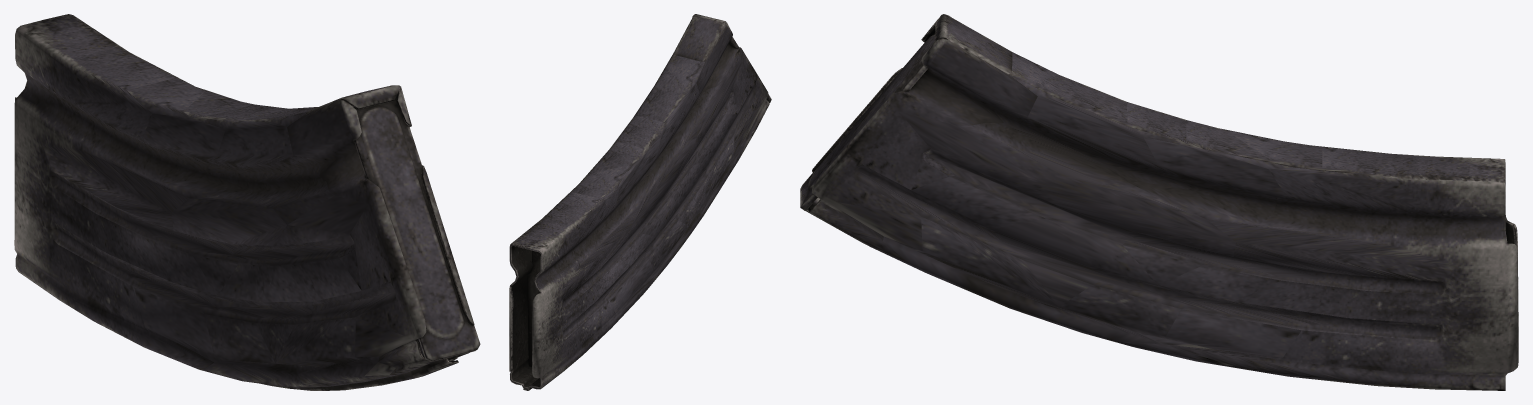
The model's file is Mag3006ExtLg.fbx.
3 renders of one model, left to right at view 1: azimuth 30°, elevation 25°; view 2: azimuth 150°, elevation 25°; view 3: azimuth 270°, elevation 25°, orthographic. The views are drawn at different scales.
Parts seen in each view (by area): view 1: Mag3006ExtLg; view 2: Mag3006ExtLg; view 3: Mag3006ExtLg.
Part boxes in pixels (x1,y1,x2,y2): Mag3006ExtLg: (14, 14, 480, 390); Mag3006ExtLg: (509, 14, 771, 390); Mag3006ExtLg: (800, 14, 1518, 390).
Bounding box in the file's own units: 0.0118 × 0.0795 × 0.1431.
